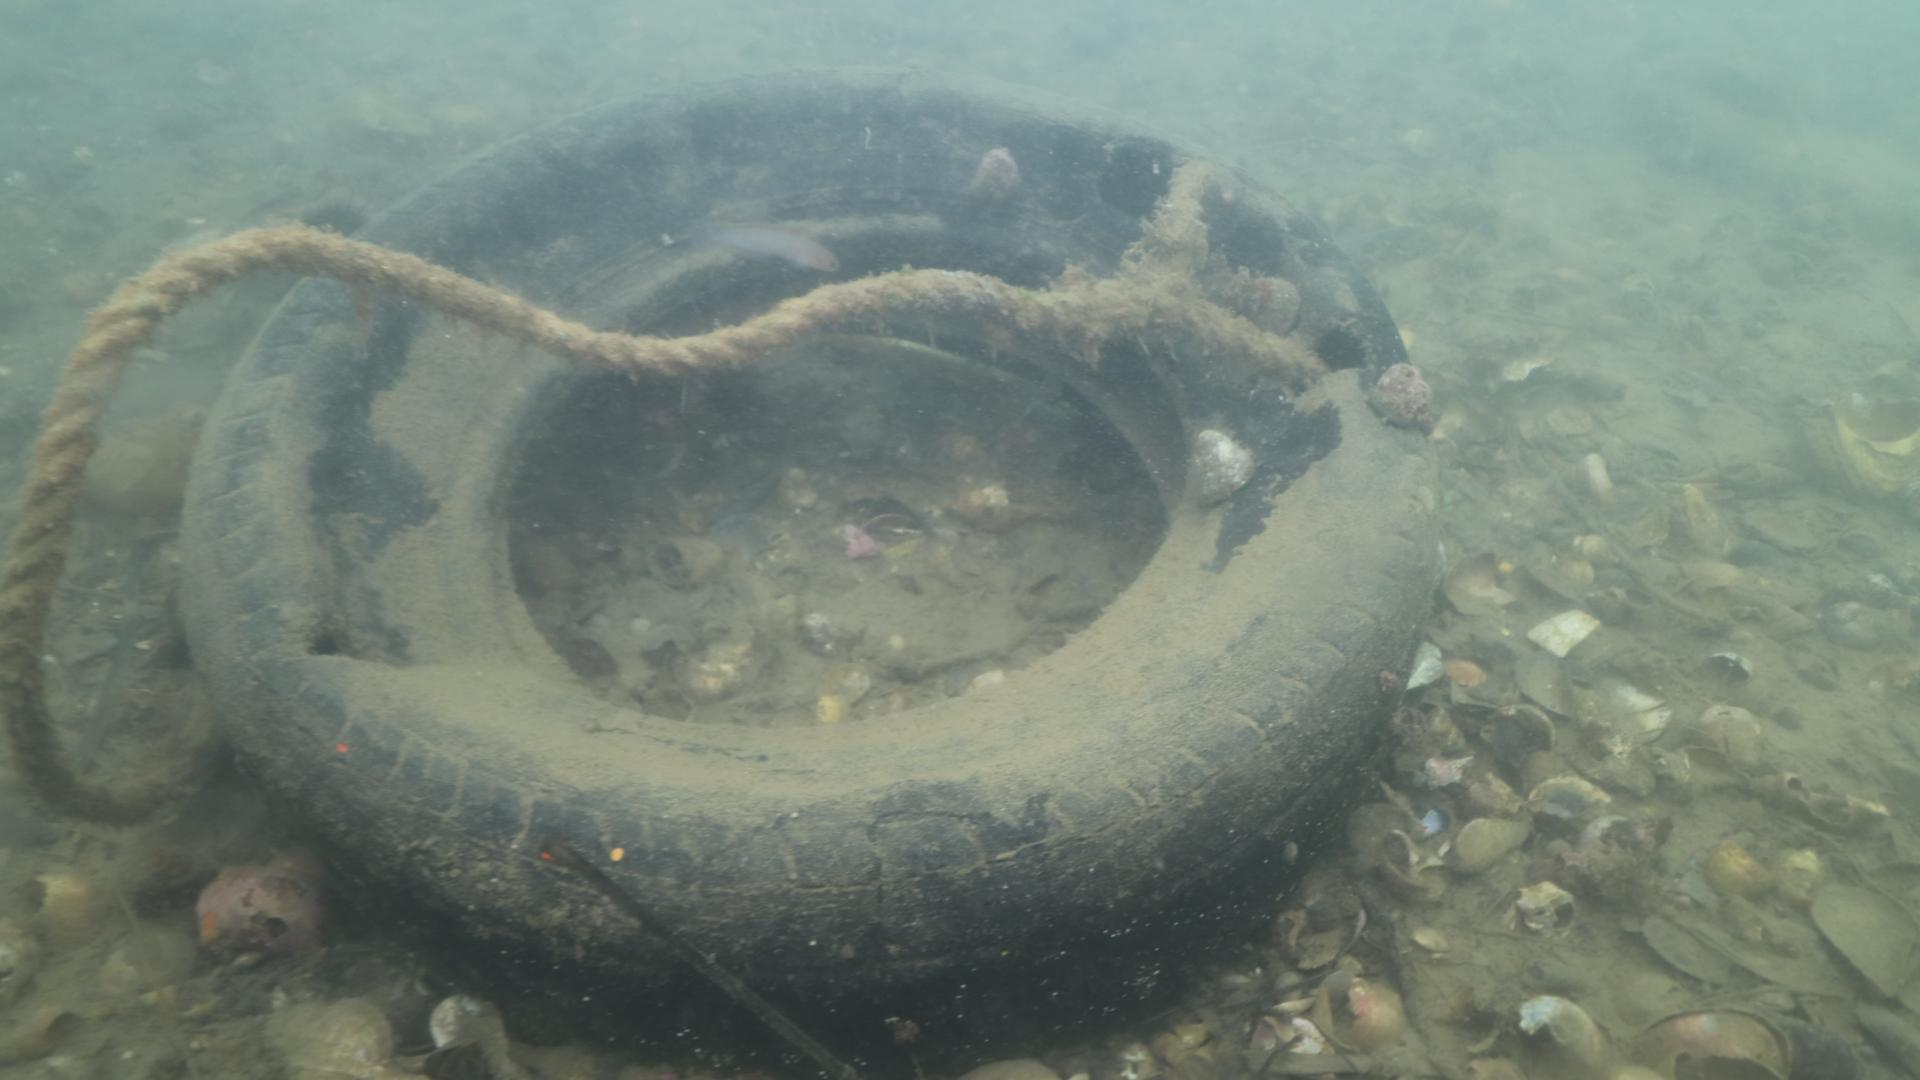rope: (0, 158, 1335, 829)
tire: (179, 59, 1448, 1080)
